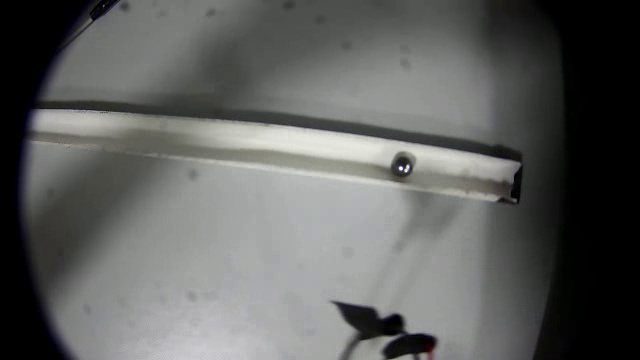gangzhu: (389, 152, 415, 179)
